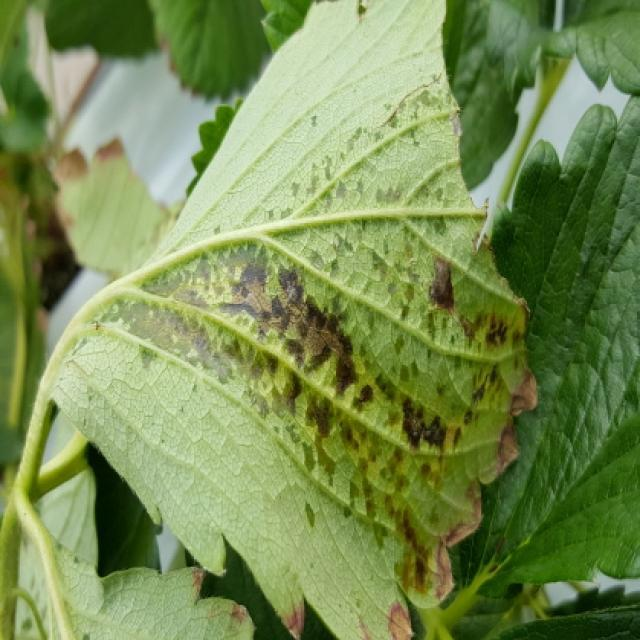Angular Leafspot: (51, 0, 538, 638), (43, 538, 257, 638)
